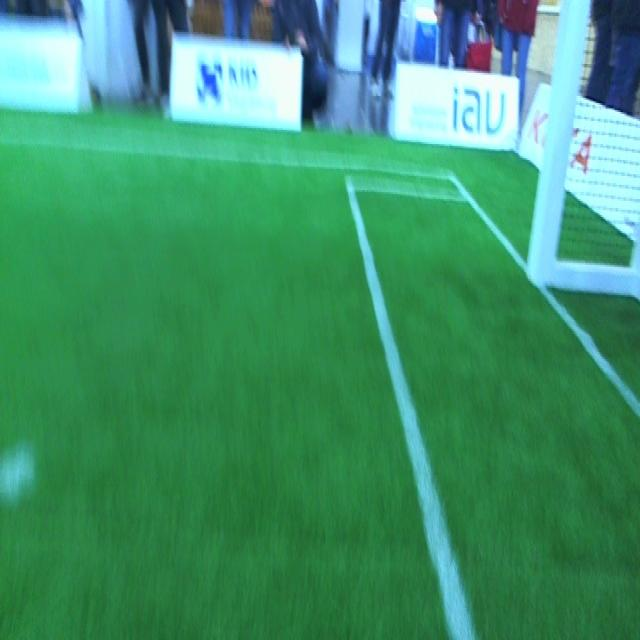goalpost: (527, 2, 599, 266)
